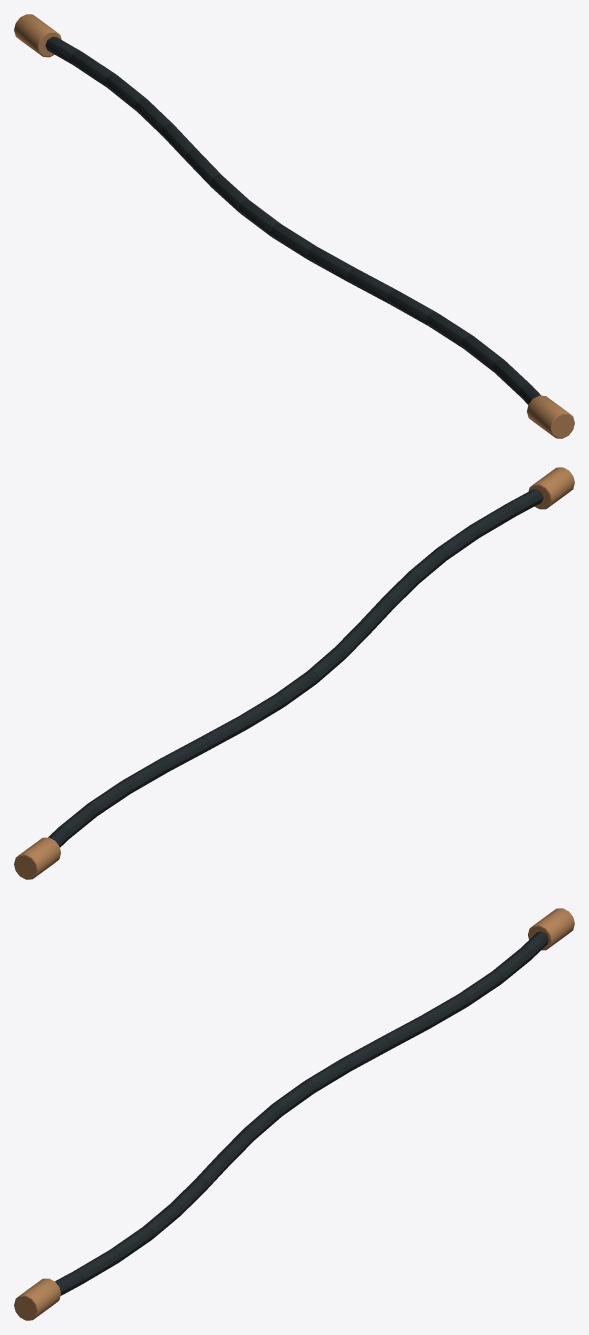
The model's file is SM_ConduitCable_300.fbx.
3 views of the same model, one above another, from view 1: azimuth 30°, elevation 25°; view 2: azimuth 150°, elevation 25°; view 3: azimuth 330°, elevation 25° (orthographic). The views are drawn at different scales.
Visible parts, largest first — view 1: SM_ConduitCable_300; view 2: SM_ConduitCable_300; view 3: SM_ConduitCable_300.
Part boxes in pixels (box(x1,y1,x2,y2)): SM_ConduitCable_300: box(14, 14, 574, 438); SM_ConduitCable_300: box(14, 467, 574, 879); SM_ConduitCable_300: box(14, 908, 574, 1320).
Size of what is drawn, in the model's own units: 0.1458 by 3.14 by 0.084.
